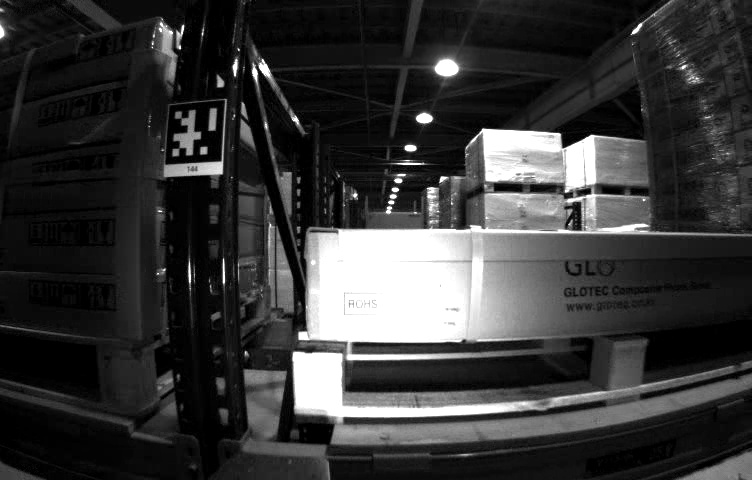True Barcode: (409, 278, 459, 336)
